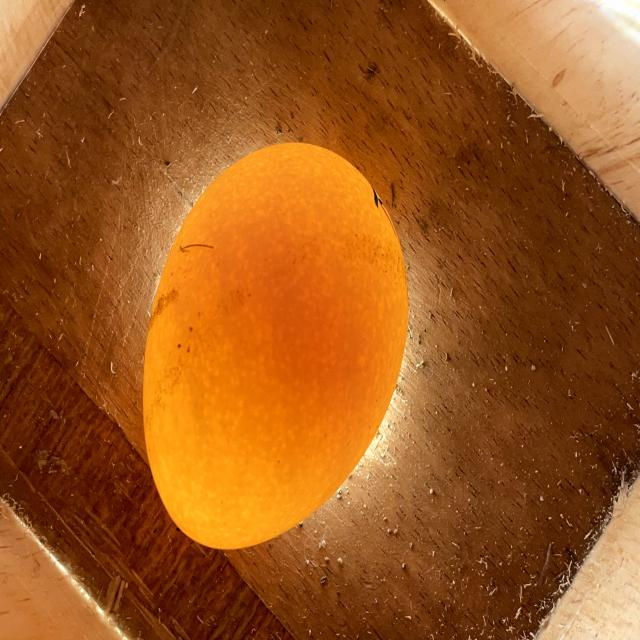infertile: (144, 143, 407, 548)
